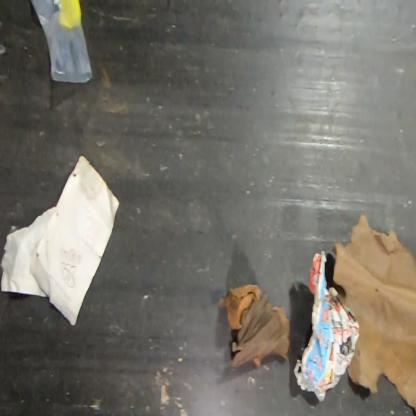cardboard: (216, 283, 262, 331)
soft_plastic: (28, 0, 95, 85)
